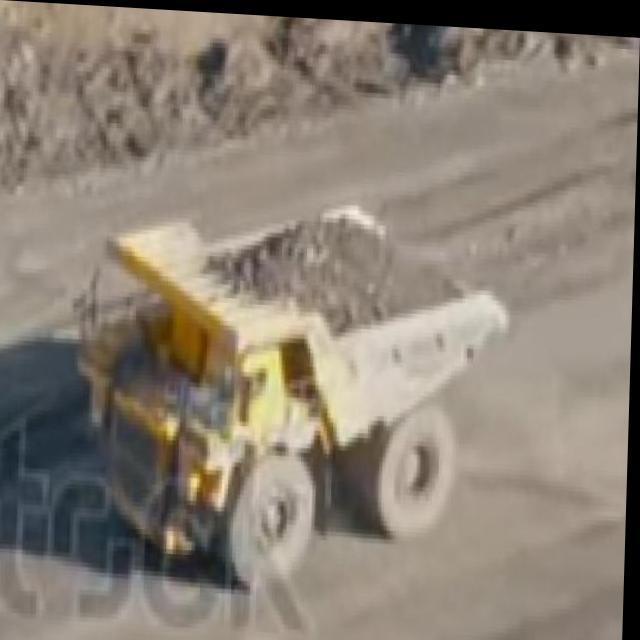uncovered: (124, 180, 480, 606)
